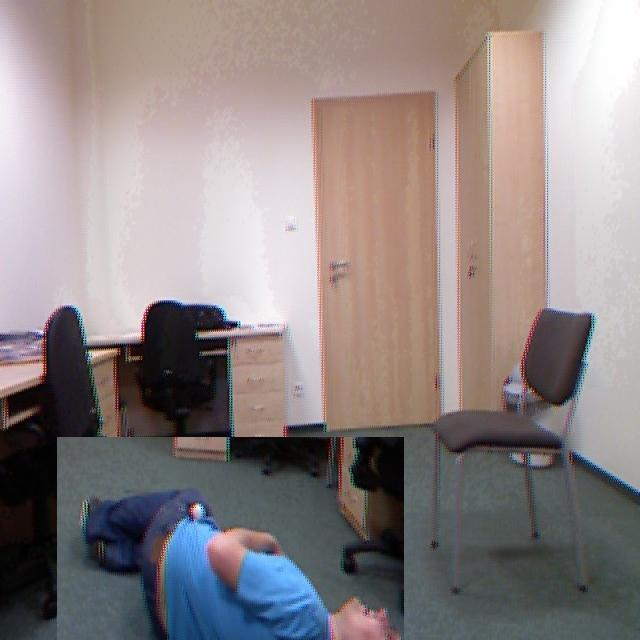Fall: (141, 472, 443, 640)
